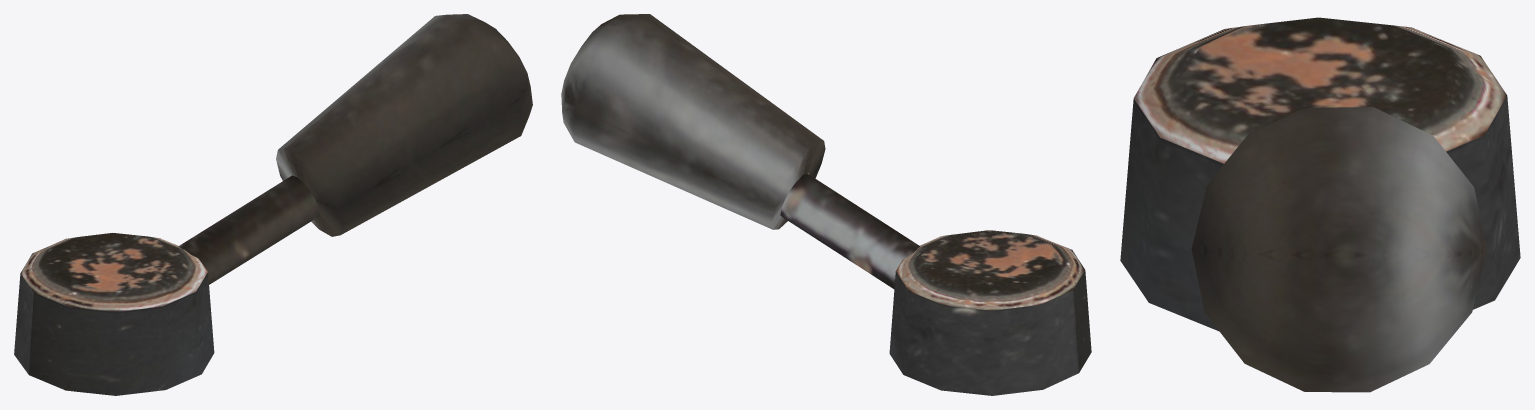
File: Unity2Skfb.gltf
3 renders of one model, left to right at view 1: azimuth 30°, elevation 25°; view 2: azimuth 150°, elevation 25°; view 3: azimuth 270°, elevation 25°, orthographic. The views are drawn at different scales.
Parts seen in each view (by area): view 1: node_A35_-2142; view 2: node_A35_-2142; view 3: node_A35_-2142.
Part boxes in pixels (x1,y1,x2,y2): node_A35_-2142: [14, 14, 532, 395]; node_A35_-2142: [561, 14, 1091, 395]; node_A35_-2142: [1120, 17, 1520, 392].
Bounding box in the file's own units: 0.1202 × 0.0571 × 0.0422.
1 material, 1 textured.
